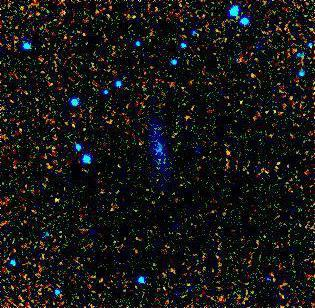star: (41, 185, 71, 215)
